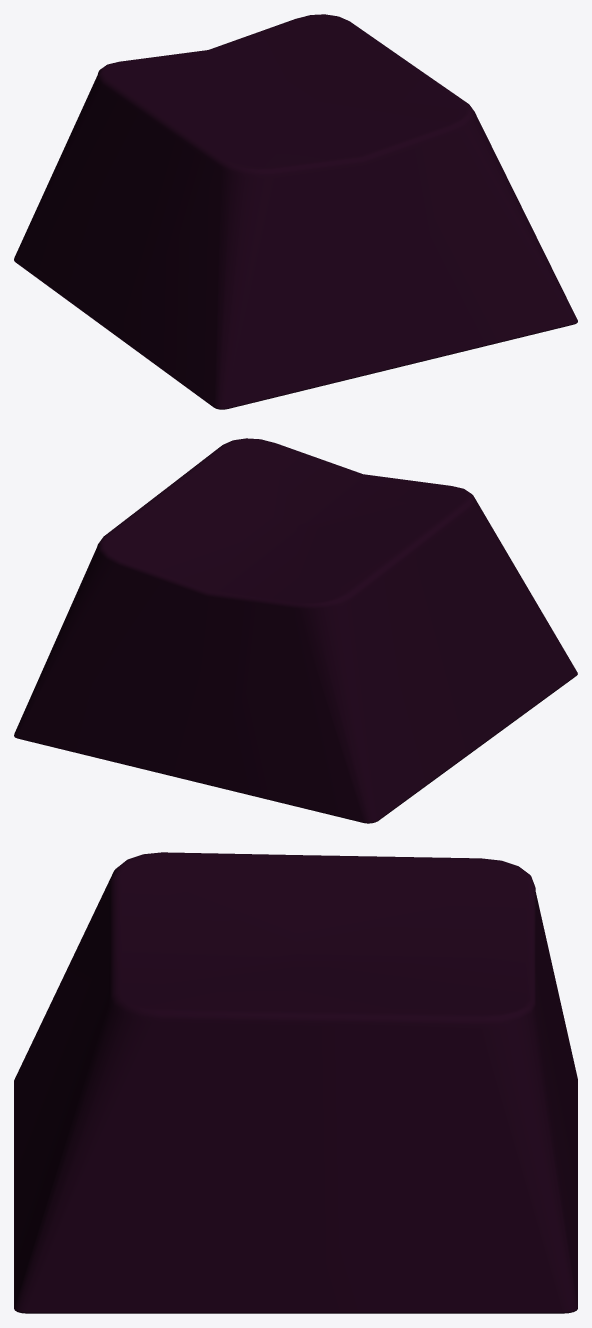
The picture shows the model from 3 angles, top to bottom: view 1: azimuth 30°, elevation 25°; view 2: azimuth 150°, elevation 25°; view 3: azimuth 270°, elevation 25°; orthographic projection. The views are drawn at different scales.
Visible parts, largest first — view 1: R2_1U_Mesh.001; view 2: R2_1U_Mesh.001; view 3: R2_1U_Mesh.001.
Boxes of the visible parts, x1,y1,x2,y2 form: R2_1U_Mesh.001: [14, 14, 577, 409]; R2_1U_Mesh.001: [14, 438, 577, 823]; R2_1U_Mesh.001: [14, 852, 577, 1313].
Bounding box in the file's own units: 0.0181 × 0.00926 × 0.018.
